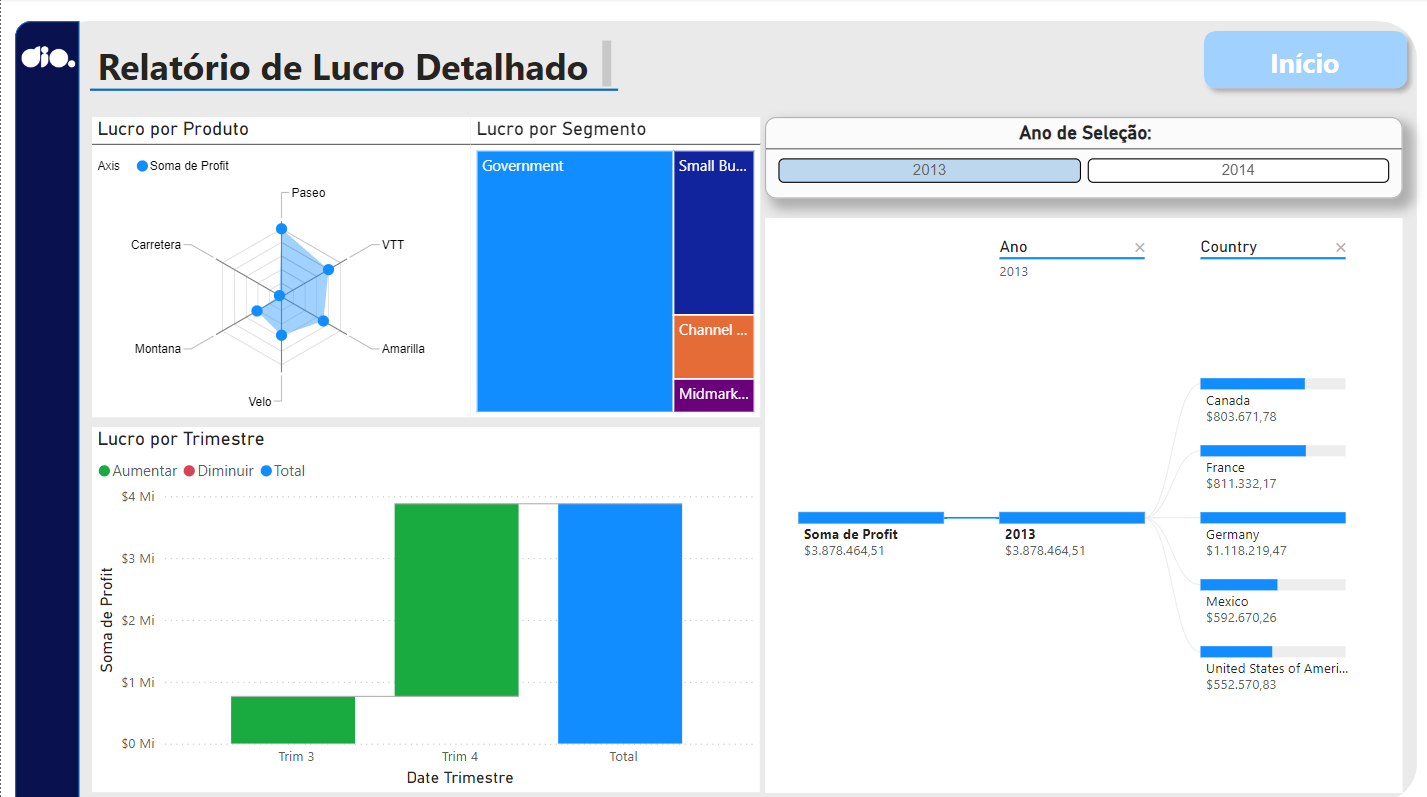

The page's visual inventory and layout, read from the dashboard file:
{"tool":"powerbi","page":{"name":"Lucro","canvas":[1280,720],"ordinal":1},"visuals":[{"type":"actionButton","title":"Home Page","box":[1068.4,20.6,199.6,69.2],"z":0,"group":"g2"},{"type":"shape","box":[42.6,20.7,1225.3,699.3],"z":0},{"type":"shape","box":[79.7,63.3,473,37.1],"z":0,"group":"g1"},{"type":"shape","box":[12.4,20.2,57.7,699.8],"z":1000},{"type":"textbox","box":[81.1,33.1,470.2,52.2],"z":1000,"group":"g1"},{"type":"textbox","box":[1080.6,35.4,173,42.6],"z":1000,"group":"g2"},{"type":"image","box":[13.7,33,57.7,39.9],"z":2000},{"type":"waterfallChart","title":"Lucro por Trimestre","fields":{"Category":["financials.Date.Variation.Hierarquia de datas.Trimestre"],"Y":["Sum(financials.Profit)"]},"box":[81.5,384.2,598.2,326.9],"z":3000},{"type":"ChicletSlicer1448559807354","title":"Ano de Seleção:","fields":{"Category":["financials.Date.Variation.Hierarquia de datas.Ano"]},"box":[684.2,106.6,571.3,73.4],"z":4000},{"type":"RadarChart1446119667547","title":"Lucro por Produto","fields":{"Category":["financials.Product"],"Y":["Sum(financials.Profit)"]},"box":[81.5,106.6,339.4,268.7],"z":5000},{"type":"treemap","title":"Lucro por Segmento","fields":{"Values":["Sum(financials.Profit)"],"Group":["financials.Segment"]},"box":[420.9,106.6,258.8,268.7],"z":6000},{"type":"group","id":"g1","title":"Sales report","box":[79.7,33.1,472.8,67.2],"z":7000},{"type":"decompositionTreeVisual","fields":{"Analyze":["Sum(financials.Profit)"],"ExplainBy":["financials.Date.Variation.Hierarquia de datas.Ano","financials.Country"]},"box":[684,197.5,571.3,514.9],"z":7000,"group":"g3"},{"type":"group","id":"g2","title":"Botão home","box":[1068.4,20.6,199.7,69.9],"z":9000},{"type":"group","id":"g3","title":"Grupo 1","box":[684,197.5,571.3,514.9],"z":10000}]}

Visuals, with their boxes in screenshot pixels (x1, y1, x2, y2), scaled from the page's 1280x720 canvas onto the 1427x797 screenshot:
"Home Page" actionButton: (1191,23,1414,99)
shape: (47,23,1414,796)
shape: (89,70,616,111)
shape: (14,22,78,796)
textbox: (90,37,615,94)
textbox: (1205,39,1398,86)
image: (15,37,80,81)
"Lucro por Trimestre" waterfallChart: (91,425,758,787)
"Ano de Seleção:" ChicletSlicer1448559807354: (763,118,1400,199)
"Lucro por Produto" RadarChart1446119667547: (91,118,469,415)
"Lucro por Segmento" treemap: (469,118,758,415)
"Sales report" group: (89,37,616,111)
decompositionTreeVisual - Sum(financials.Profit) x financials.Date.Variation.Hierarquia de datas.Ano: (763,219,1399,789)
"Botão home" group: (1191,23,1414,100)
"Grupo 1" group: (763,219,1399,789)
